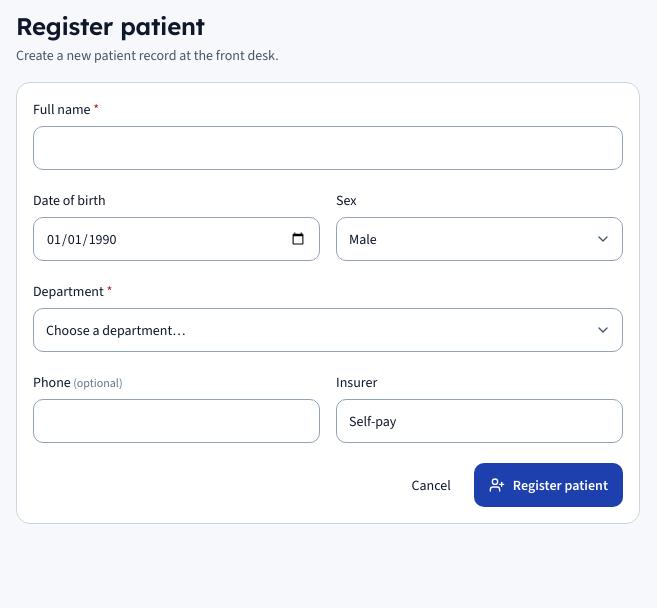
Patient registration wiring (#26) › does not create a patient when the duplicate check fails
Type "A New Patient" into the field labelled "Full name *" at (328, 148), box x1=33 y1=126 x2=623 y2=170
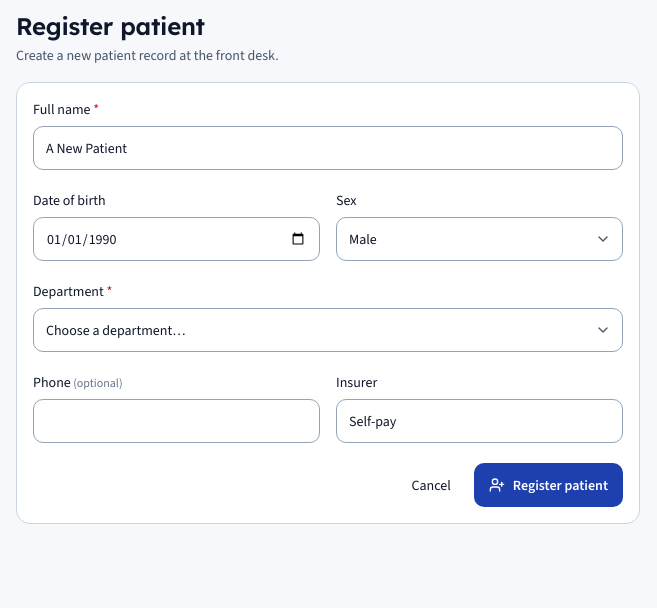
Select "GEN — General" in the dropdown labelled "Department *" at (328, 330), box x1=33 y1=308 x2=623 y2=352
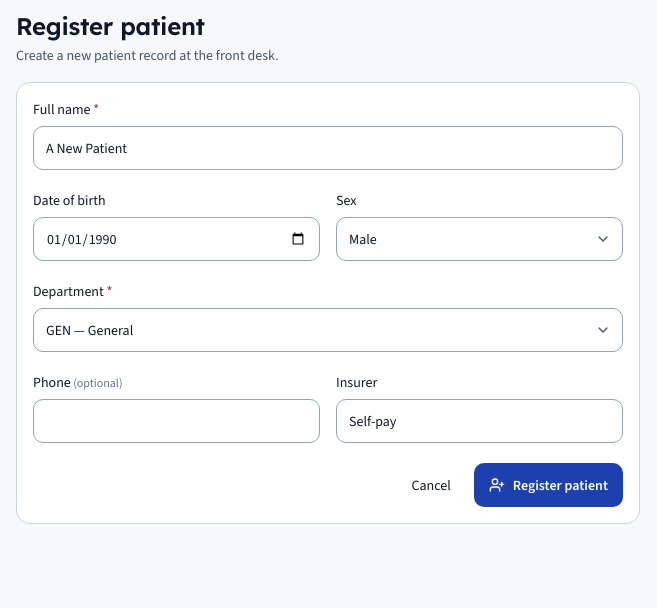
Click the button "Register patient" at (548, 485), box x1=474 y1=463 x2=623 y2=507
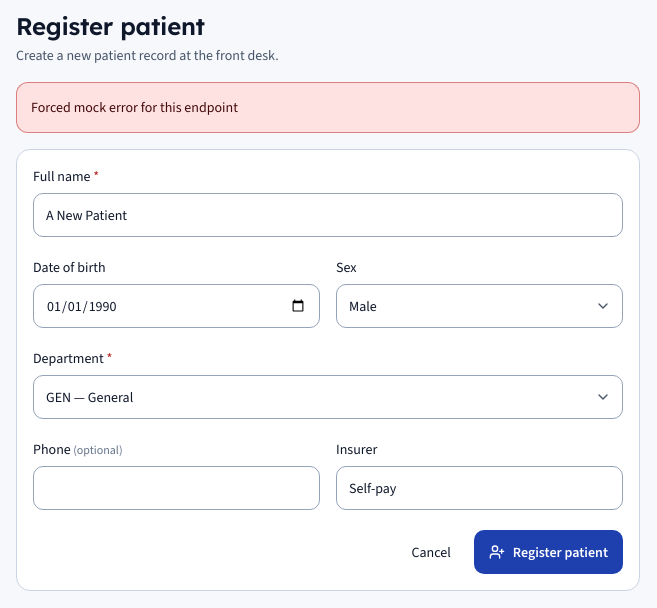
Now the message shows "Forced mock error", box x1=31 y1=98 x2=238 y2=117
